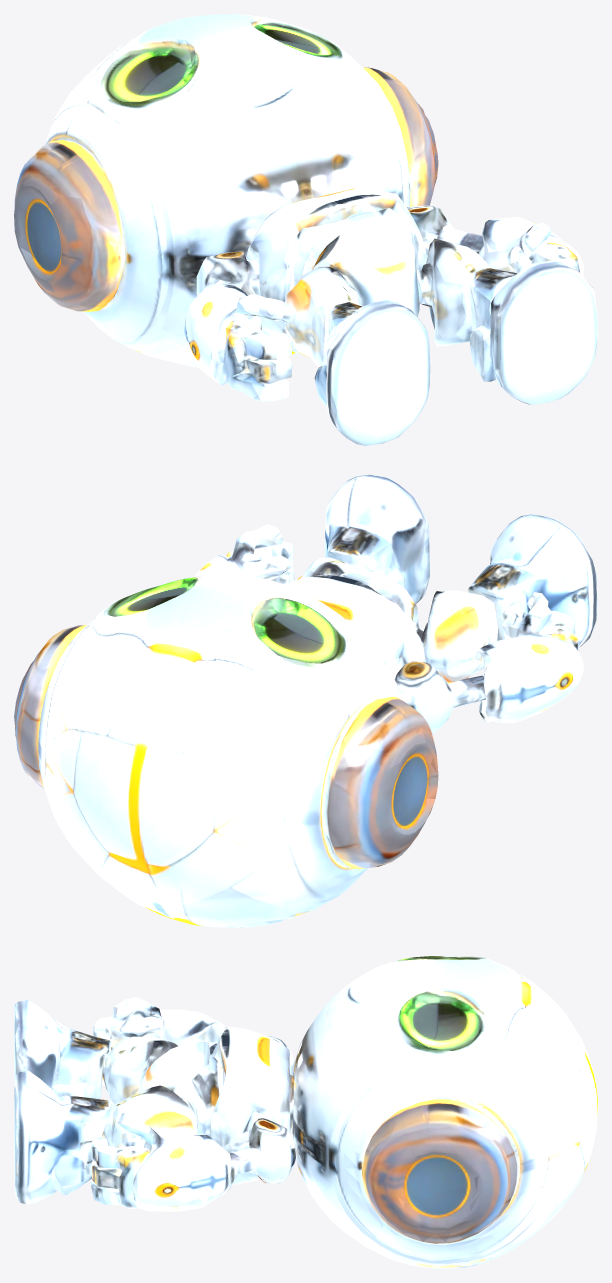
The model's file is core-kitchen-bot.glb.
3 views of the same model, one above another, from view 1: azimuth 30°, elevation 25°; view 2: azimuth 150°, elevation 25°; view 3: azimuth 270°, elevation 25° (orthographic). The views are drawn at different scales.
Visible parts, largest first — view 1: _rootJoint; view 2: _rootJoint; view 3: _rootJoint.
Boxes of the visible parts, x1,y1,x2,y2 form: _rootJoint: (14, 14, 597, 445); _rootJoint: (14, 474, 597, 927); _rootJoint: (14, 956, 597, 1268).
Size of the model in its own units: 72.19 by 58.32 by 109.
1 material, 1 textured.
